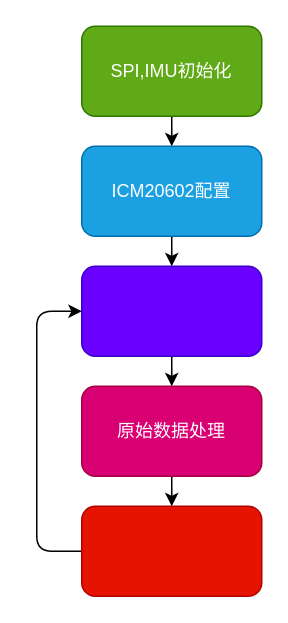
Image size: 288x623. Some labels were removed from this diagram. Each missing label, with the box of its shape:
Mahony互补滤波算法 姿态解算: (80, 505, 262, 596)
获取陀螺仪和加速度计数据: (80, 265, 262, 356)
